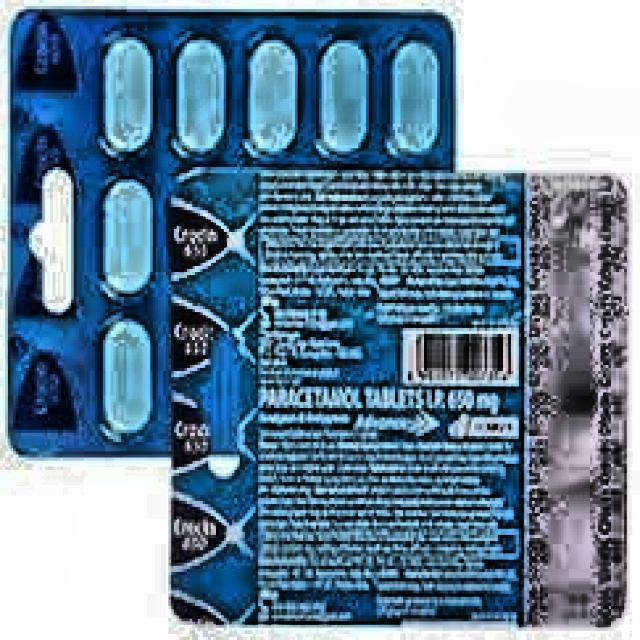Crocin: (175, 176, 255, 620)
